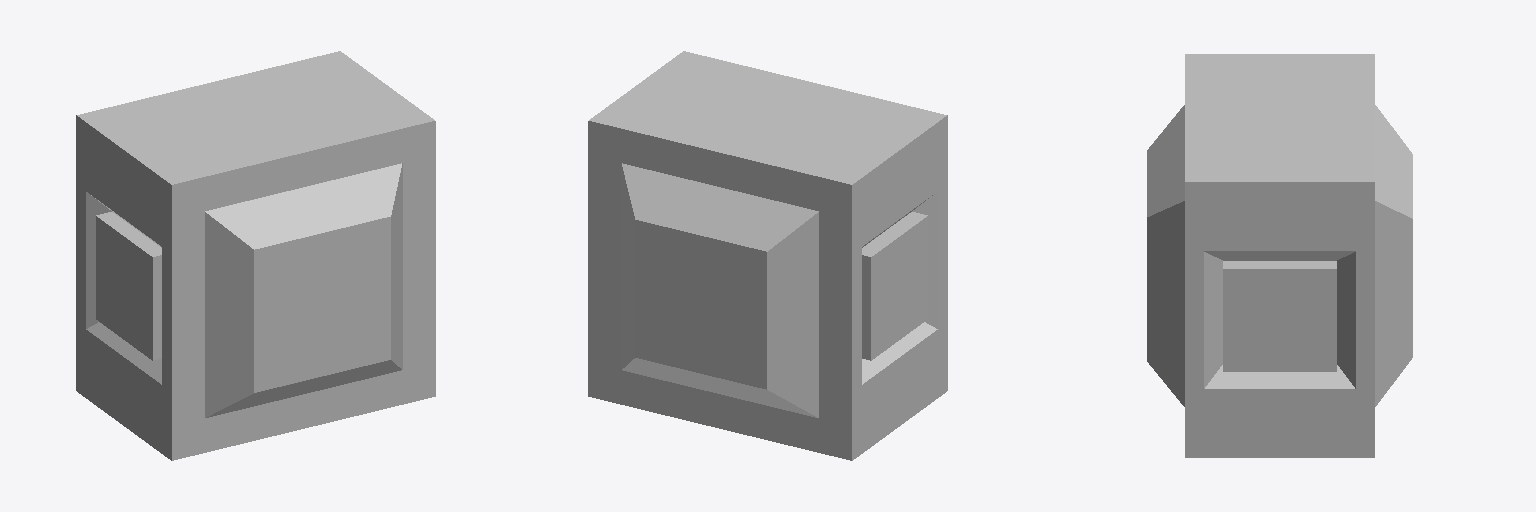
File: algae_film.obj
The picture shows the model from 3 angles: view 1: azimuth 30°, elevation 25°; view 2: azimuth 150°, elevation 25°; view 3: azimuth 270°, elevation 25°; orthographic projection.
Visible parts, largest first — view 1: algae_film; view 2: algae_film; view 3: algae_film.
Boxes of the visible parts, box(x1,y1,x2,y2) form: algae_film: box(76, 51, 435, 460); algae_film: box(588, 51, 947, 460); algae_film: box(1147, 54, 1412, 457).
Size of the model in its own units: 1 by 1 by 0.875.